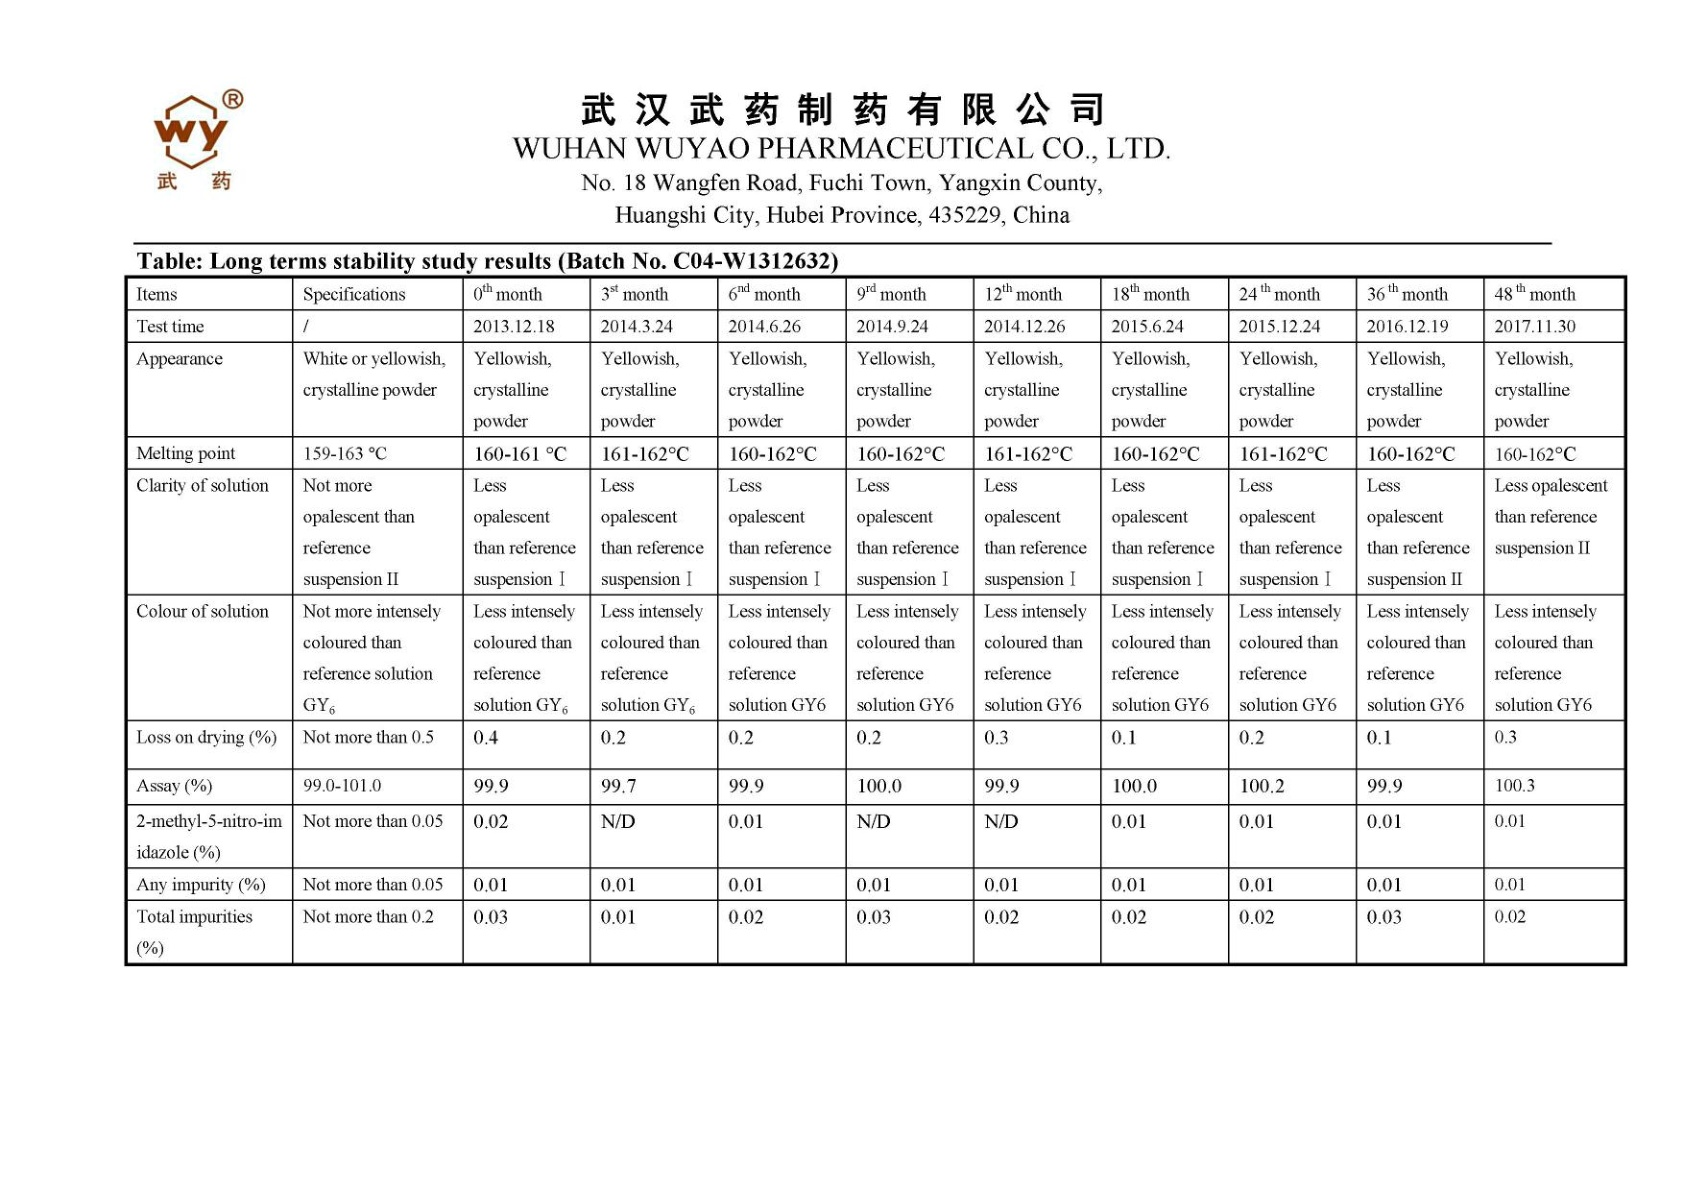full_lined: (122, 275, 1629, 968)
